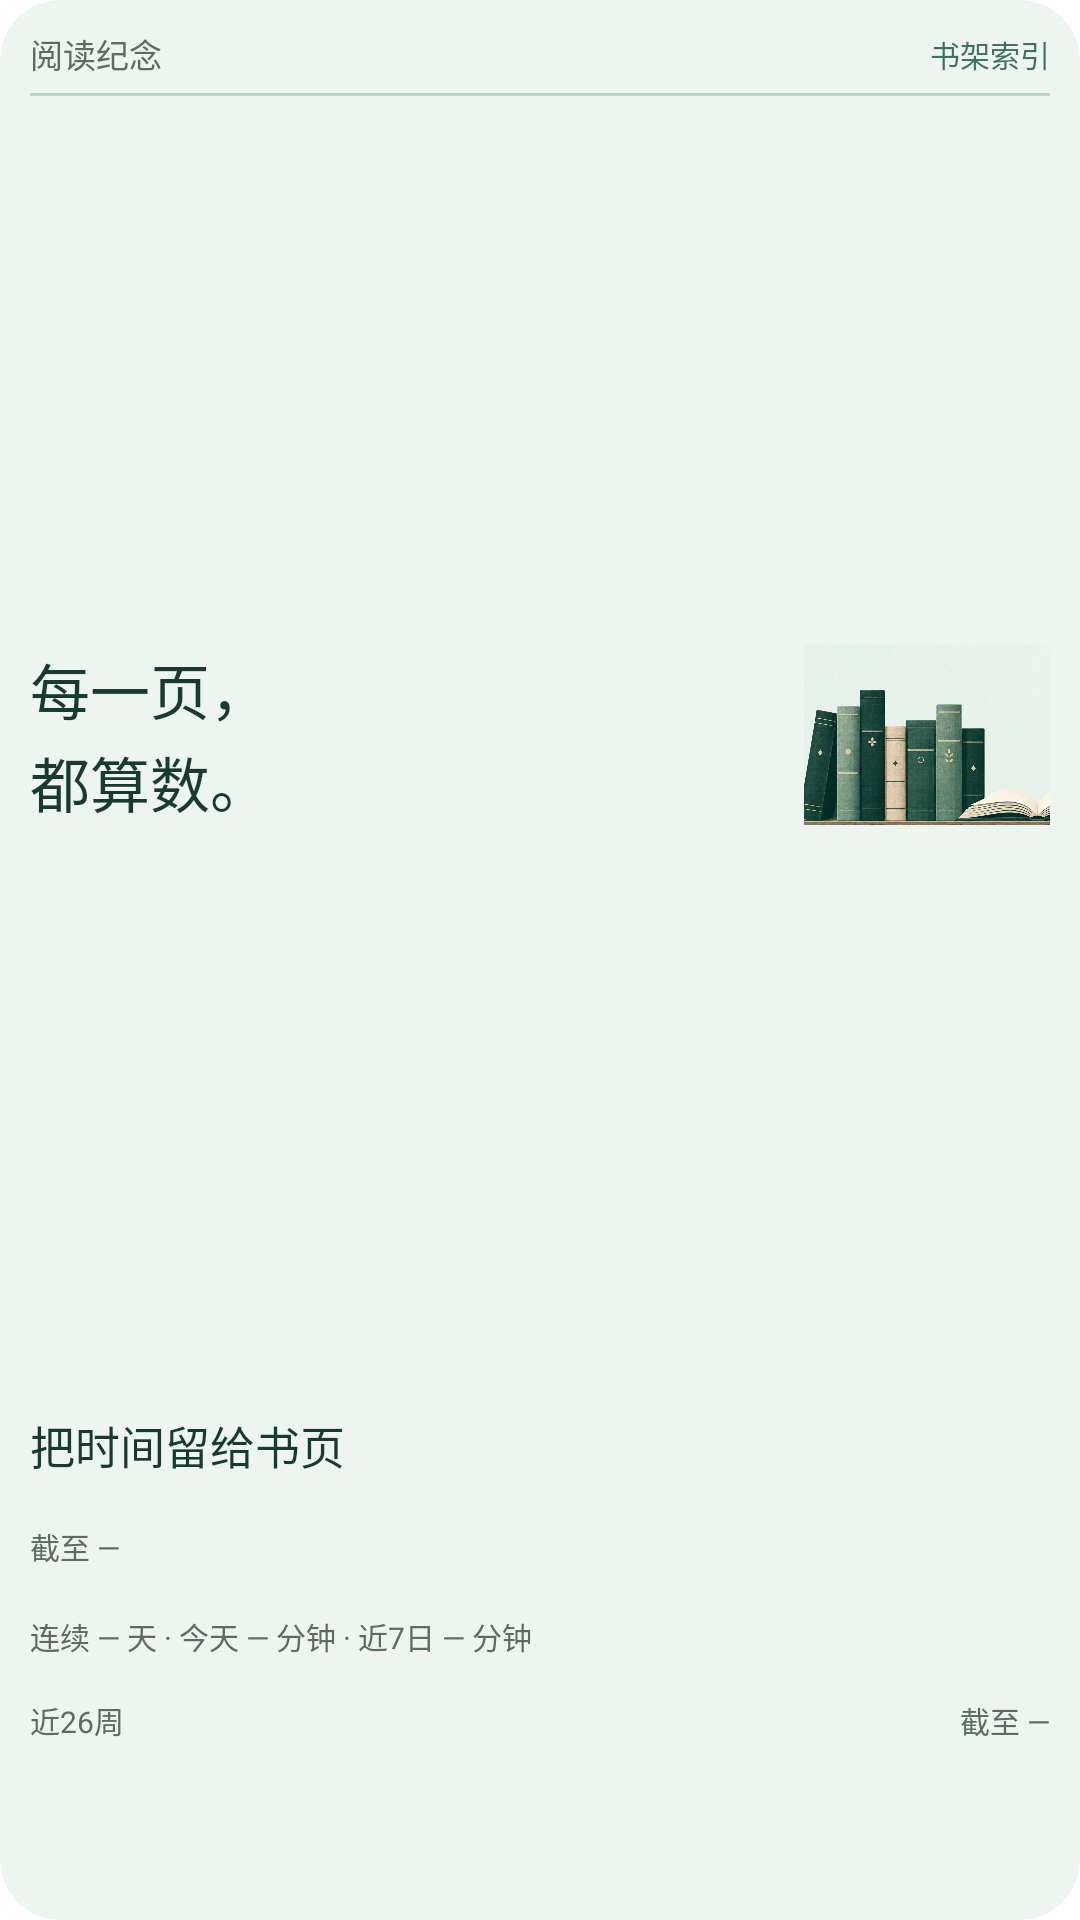

Screen size 1080px x 1920px. Icon name, then its box in pixels as region(x1, y1, x2, y2):
reading widget art shelf: region(804, 690, 1050, 825)
